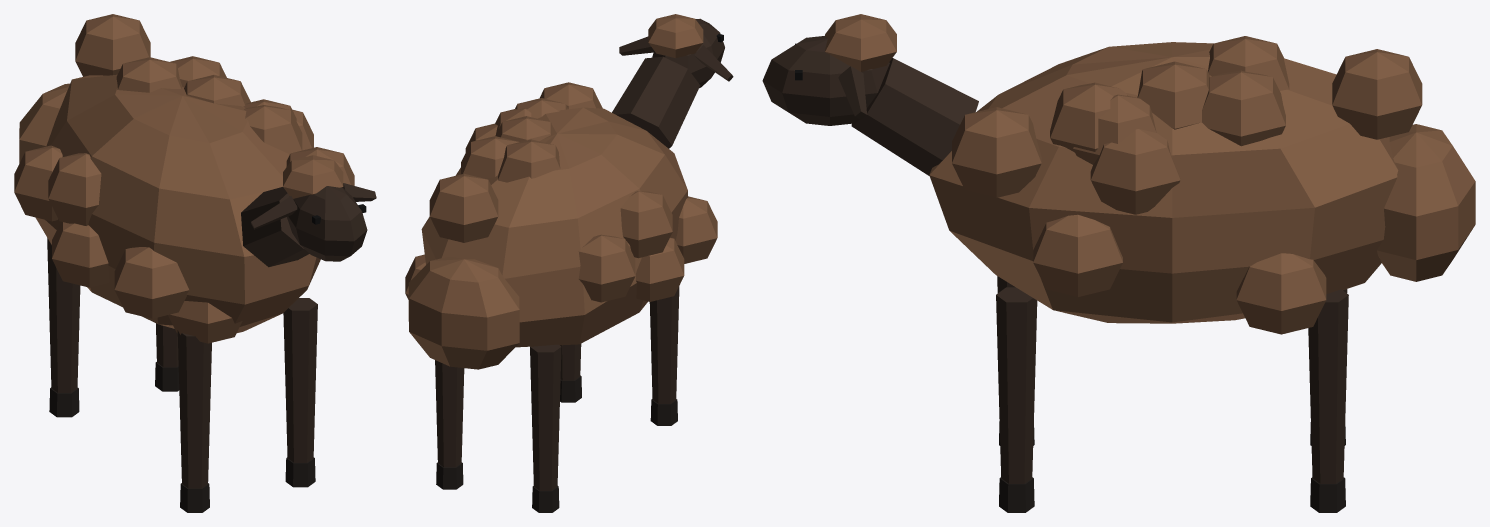
File: Animal_Sheep_Brown.obj
3 renders of one model, left to right at view 1: azimuth 30°, elevation 25°; view 2: azimuth 150°, elevation 25°; view 3: azimuth 270°, elevation 25°, orthographic. The views are drawn at different scales.
Visible parts, largest first — view 1: Animal_Sheep_Brown; view 2: Animal_Sheep_Brown; view 3: Animal_Sheep_Brown.
Boxes of the visible parts, x1,y1,x2,y2 form: Animal_Sheep_Brown: (14, 14, 376, 512); Animal_Sheep_Brown: (405, 14, 733, 512); Animal_Sheep_Brown: (762, 14, 1475, 512).
Bounding box in the file's own units: 0.6968 × 0.97 × 1.37.
